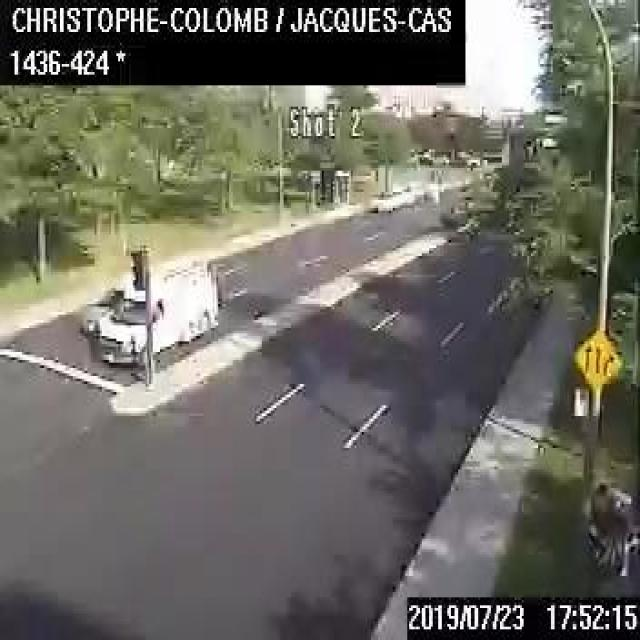vehicle: (97, 253, 222, 361), (79, 284, 122, 332), (367, 190, 395, 209), (390, 185, 413, 206), (405, 177, 425, 200)
